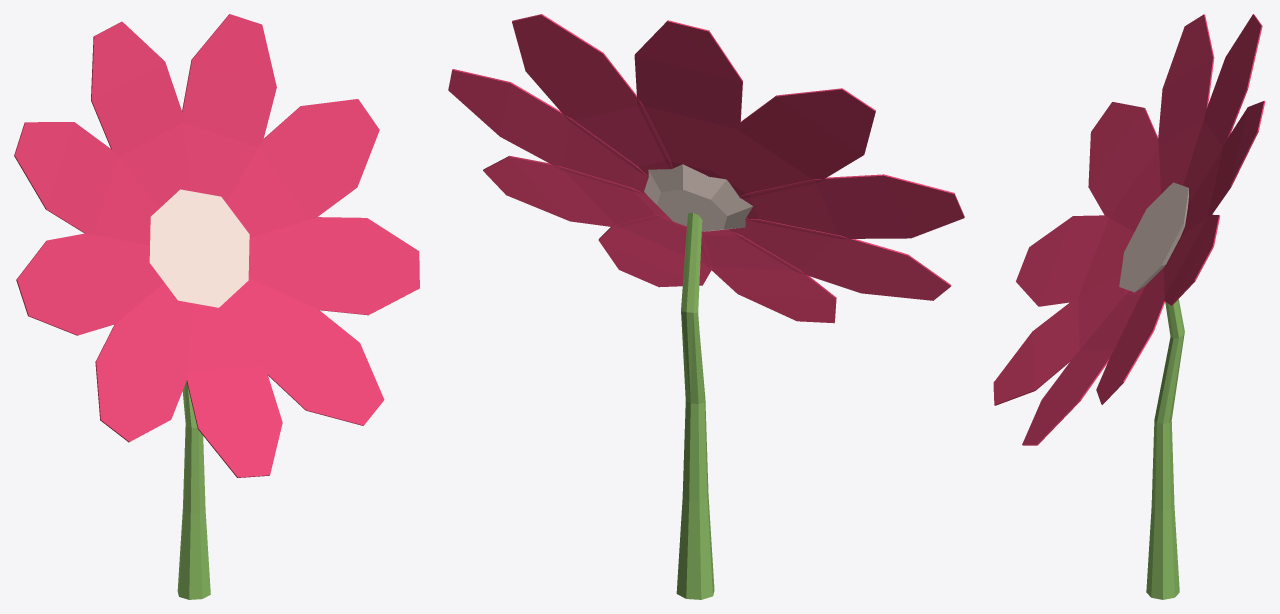
File: flower02_pink.fbx
3 views of the same model, side by side, from view 1: azimuth 30°, elevation 25°; view 2: azimuth 150°, elevation 25°; view 3: azimuth 270°, elevation 25° (orthographic). The views are drawn at different scales.
Visible parts, largest first — view 1: flower02_pink_LOD0; view 2: flower02_pink_LOD0; view 3: flower02_pink_LOD0.
Part boxes in pixels (x1,y1,x2,y2): flower02_pink_LOD0: [14, 14, 419, 599]; flower02_pink_LOD0: [448, 14, 964, 599]; flower02_pink_LOD0: [993, 14, 1265, 599].
Size of what is drawn, in the model's own units: 76.59 by 97.27 by 43.24.
